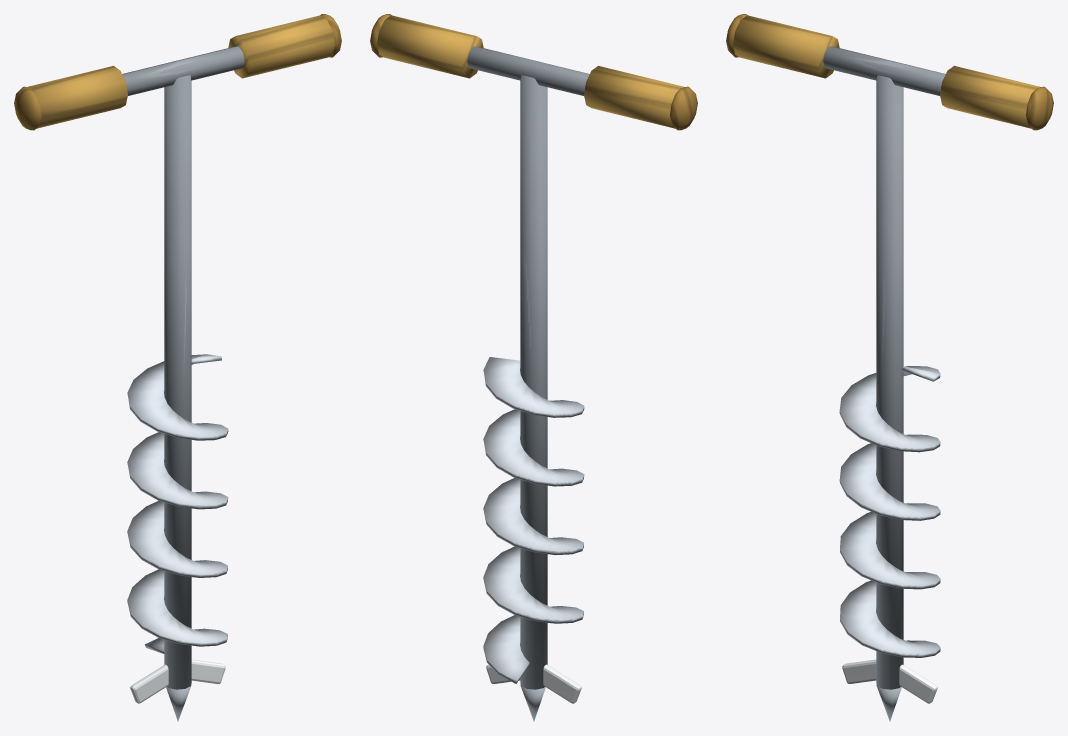
Rendered from tool_ice_drill.glb.
3 views of the same model, side by side, from view 1: azimuth 30°, elevation 25°; view 2: azimuth 150°, elevation 25°; view 3: azimuth 330°, elevation 25° (orthographic).
Visible parts, largest first — view 1: Tool; view 2: Tool; view 3: Tool.
Part boxes in pixels (left/top/right/bottom): Tool: left=14, top=14, right=341, bottom=721; Tool: left=370, top=14, right=697, bottom=721; Tool: left=726, top=14, right=1053, bottom=721.
Size of the model in its own units: 0.5204 by 1.05 by 0.1441.
Materials: 1 (1 with a texture image).
